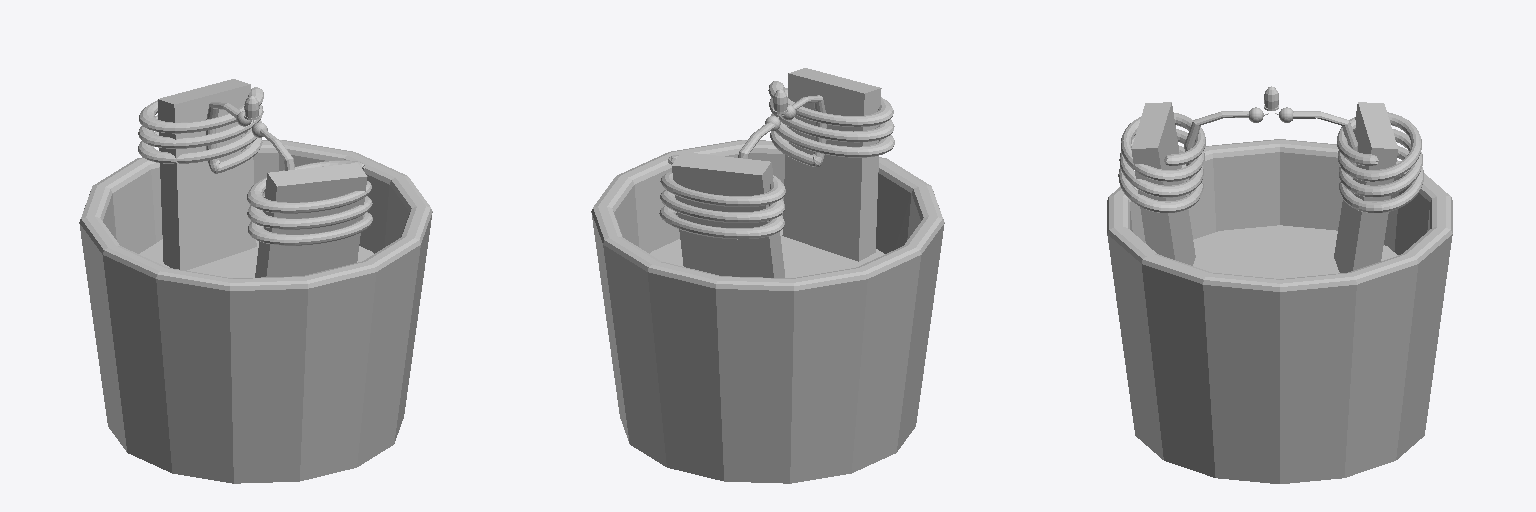
Rendered from Simple Electrical Cell.obj.
3 views of the same model, side by side, from view 1: azimuth 30°, elevation 25°; view 2: azimuth 150°, elevation 25°; view 3: azimuth 270°, elevation 25° (orthographic).
Parts seen in each view (by area): view 1: Cylinder001_Mesh, Box001_Mesh.002, Box002_Mesh.004, Spring002_Mesh.005, Spring001_Mesh.003, Cylinder002_Mesh.001; view 2: Cylinder001_Mesh, Box002_Mesh.004, Box001_Mesh.002, Spring002_Mesh.005, Spring001_Mesh.003, Cylinder002_Mesh.001; view 3: Cylinder001_Mesh, Cylinder002_Mesh.001, Spring001_Mesh.003, Spring002_Mesh.005, Box001_Mesh.002, Box002_Mesh.004.
Boxes of the visible parts, <box> form: Cylinder001_Mesh: <box>79,140,432,483</box>; Box001_Mesh.002: <box>158,79,256,270</box>; Box002_Mesh.004: <box>255,163,367,277</box>; Spring002_Mesh.005: <box>247,129,372,245</box>; Spring001_Mesh.003: <box>138,87,263,173</box>; Cylinder002_Mesh.001: <box>139,239,373,277</box>; Cylinder001_Mesh: <box>591,140,944,483</box>; Box002_Mesh.004: <box>782,68,881,261</box>; Box001_Mesh.002: <box>672,152,784,277</box>; Spring002_Mesh.005: <box>768,81,894,166</box>; Spring001_Mesh.003: <box>659,123,785,239</box>; Cylinder002_Mesh.001: <box>650,229,884,277</box>; Cylinder001_Mesh: <box>1107,139,1452,483</box>; Cylinder002_Mesh.001: <box>1193,225,1397,278</box>; Spring001_Mesh.003: <box>1293,111,1423,212</box>; Spring002_Mesh.005: <box>1118,111,1248,212</box>; Box001_Mesh.002: <box>1334,102,1397,272</box>; Box002_Mesh.004: <box>1131,102,1195,265</box>.
Size of the model in its own units: 0.4773 by 0.4924 by 0.4653.